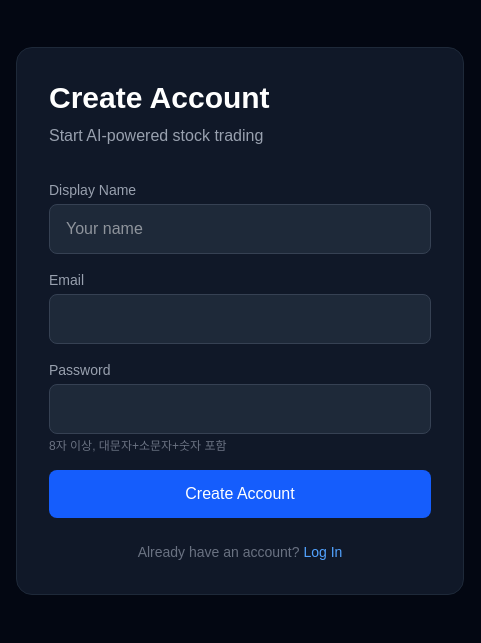
it: RegisterPage › shows error message on registration failure
In the 2nd field: (240,319) [49,294,431,344], type "taken@test.com"
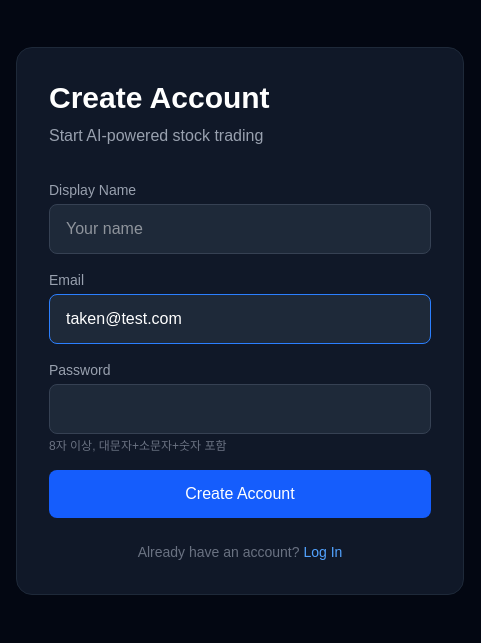
In the password field: (240,409) [49,384,431,434], type "password1"
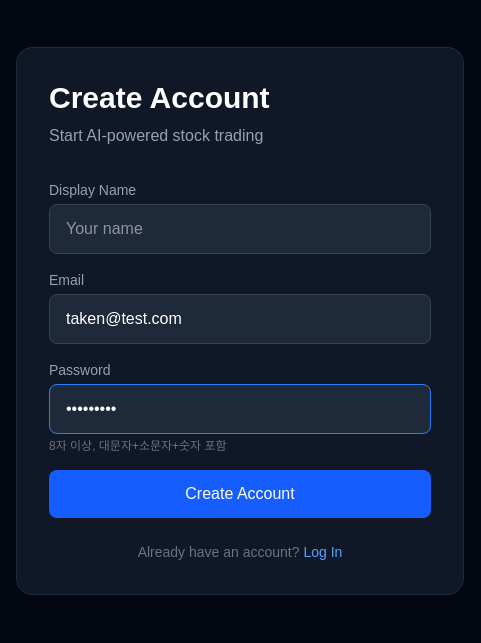
Click the button "Create Account": (240,494) [49,470,431,518]
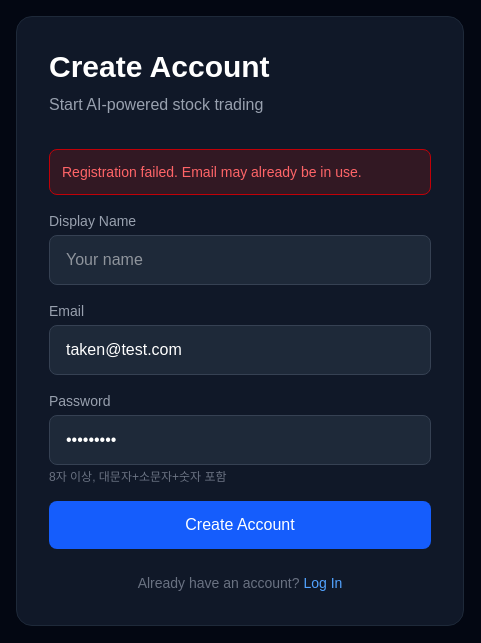
Check: the text "Registration failed. Email may already be in use." is shown, box [49,149,431,195]
